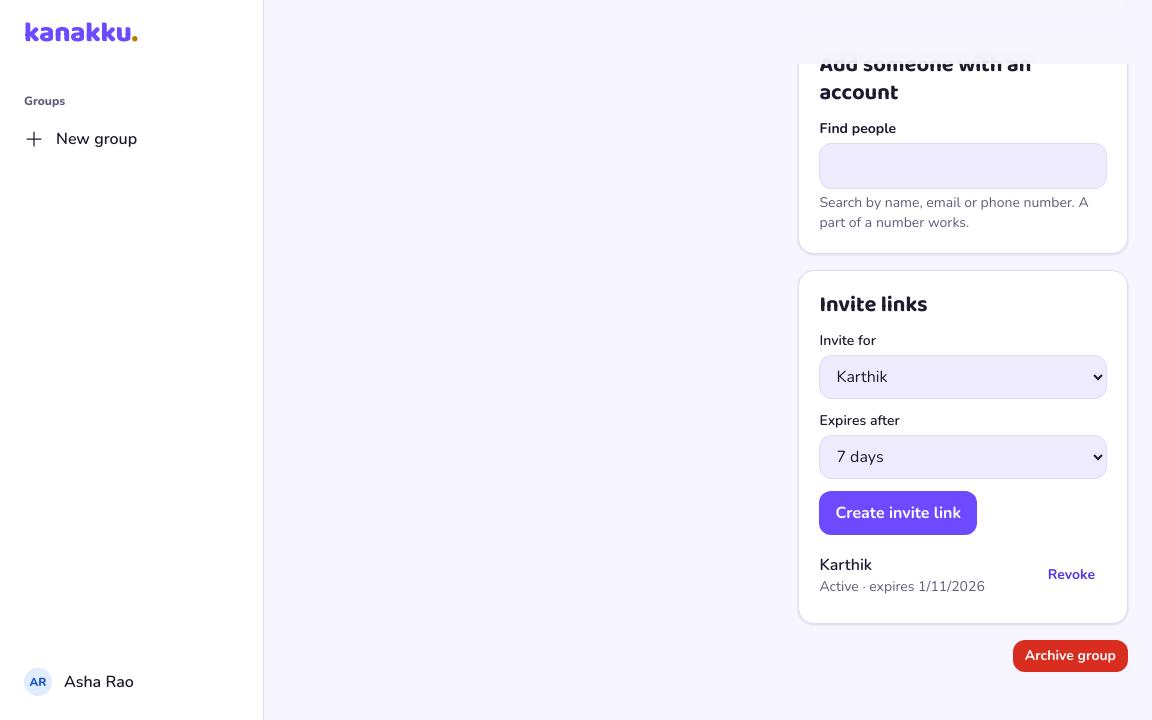
it: InvitesPanel › lists invites and revokes one with its version
The width and height of the screenshot is (1152, 720).
(page scrolled)
Expected: the list named "Invites" shows "Karthik", [819, 554, 872, 576]
Expected: the list named "Invites" shows "Active", [819, 577, 859, 596]
What coordinates should you click on to do the following:
click the button with aria-label "Revoke invite for Karthik"
I would click on:
 (1071, 575)
Its box is [1036, 559, 1107, 591].
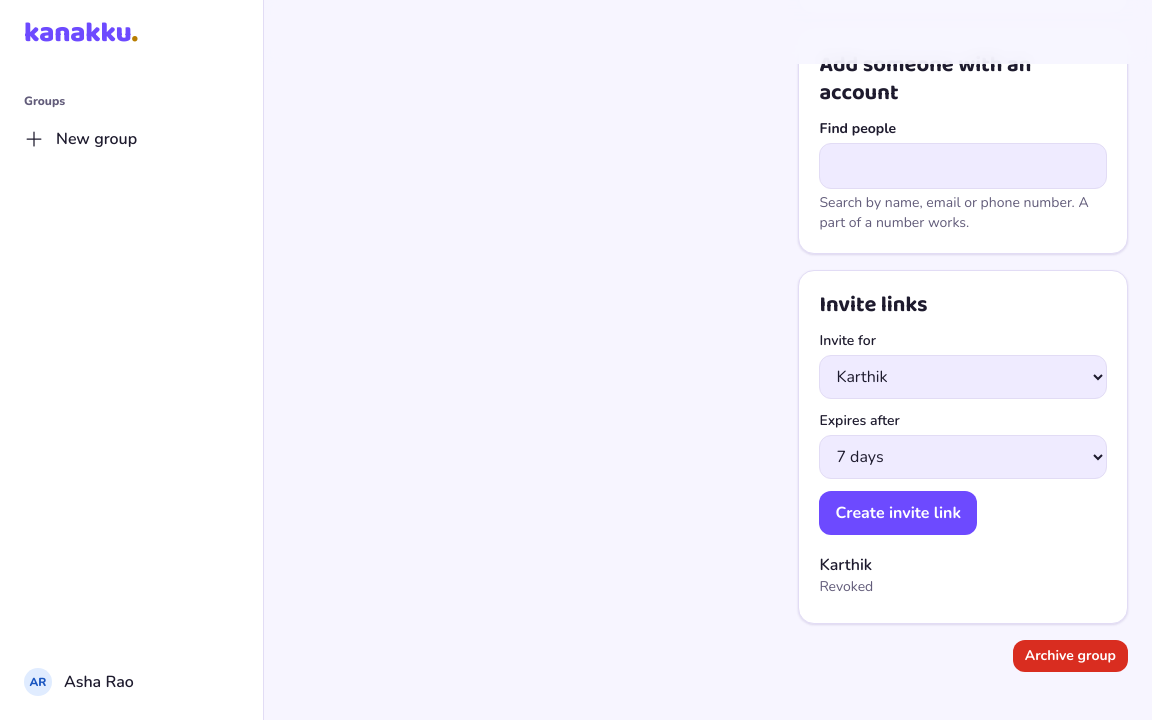
Expected: the text "Revoked" is shown, [819, 577, 873, 596]
